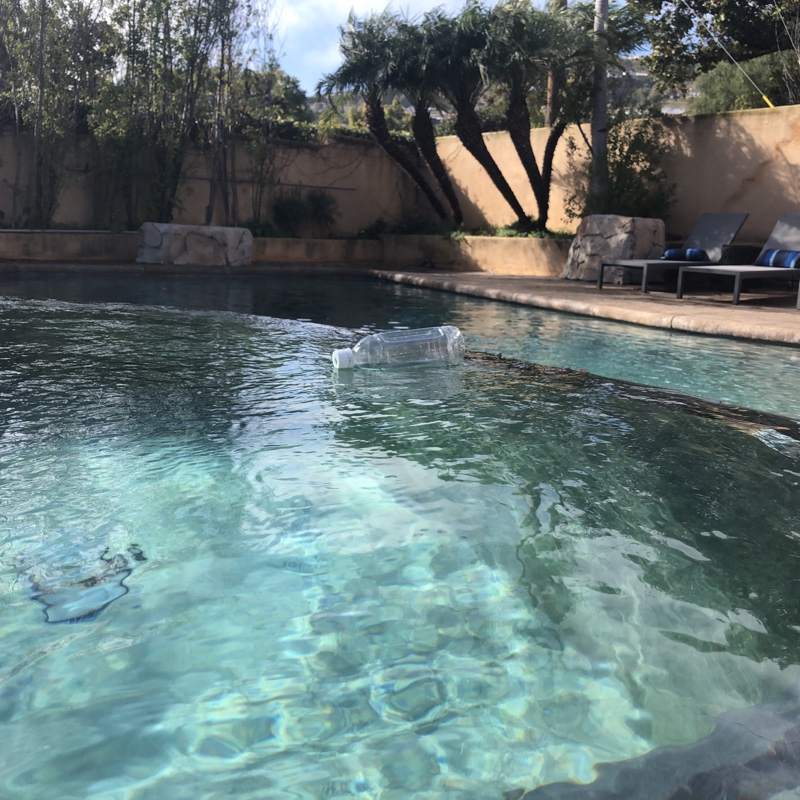Plastic Bottle: (327, 320, 470, 381)
